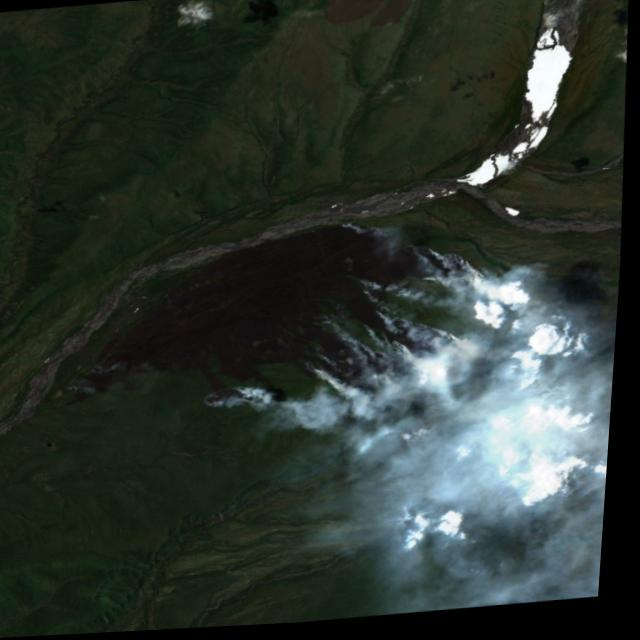fire: (298, 240, 512, 421), (203, 382, 270, 421), (65, 359, 113, 397)
